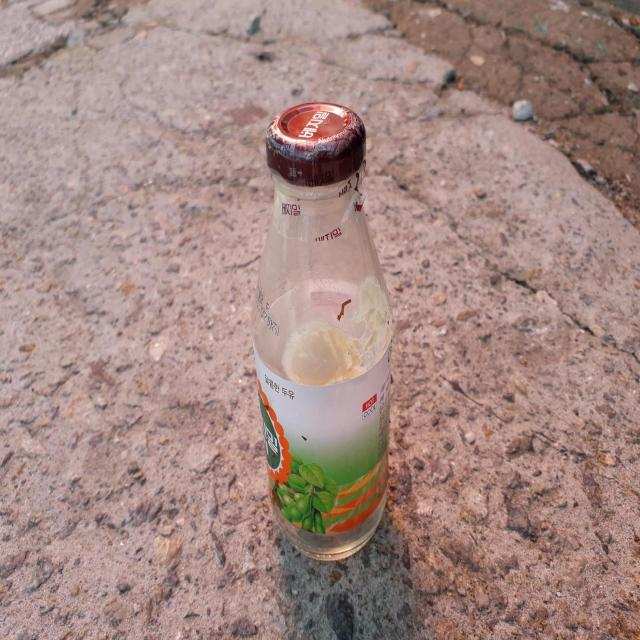glass: (253, 102, 392, 560)
